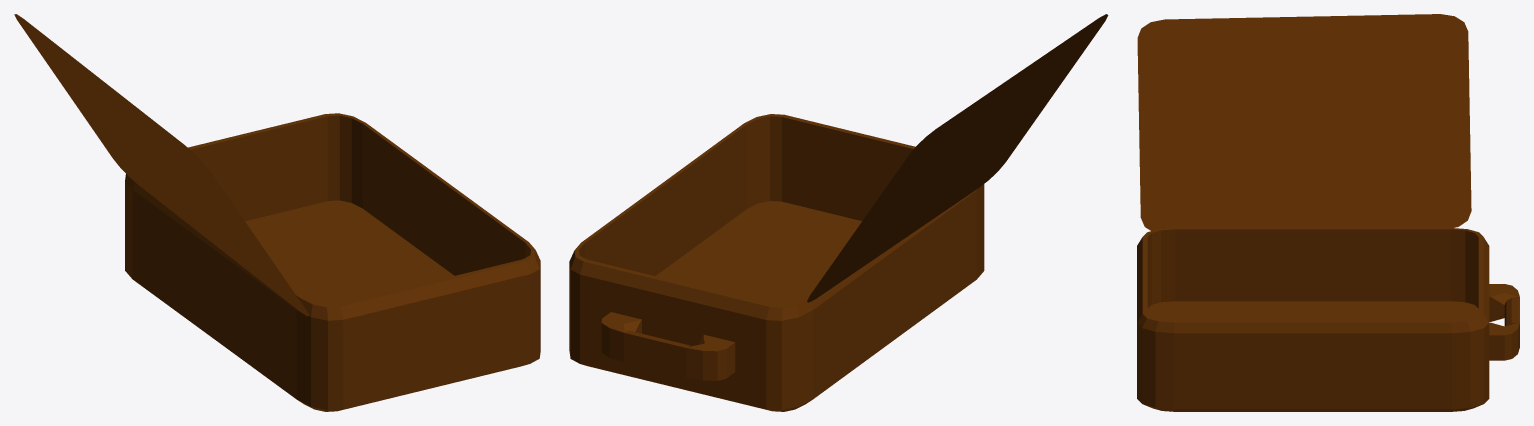
The model's file is Case.fbx.
3 renders of one model, left to right at view 1: azimuth 30°, elevation 25°; view 2: azimuth 150°, elevation 25°; view 3: azimuth 270°, elevation 25°, orthographic. The views are drawn at different scales.
Parts seen in each view (by area): view 1: Case; view 2: Case; view 3: Case.
Boxes of the visible parts, <box> form: Case: <box>14,14,540,411</box>; Case: <box>569,14,1108,411</box>; Case: <box>1137,14,1519,411</box>.
Bounding box in the file's own units: 299 × 244 × 331.
